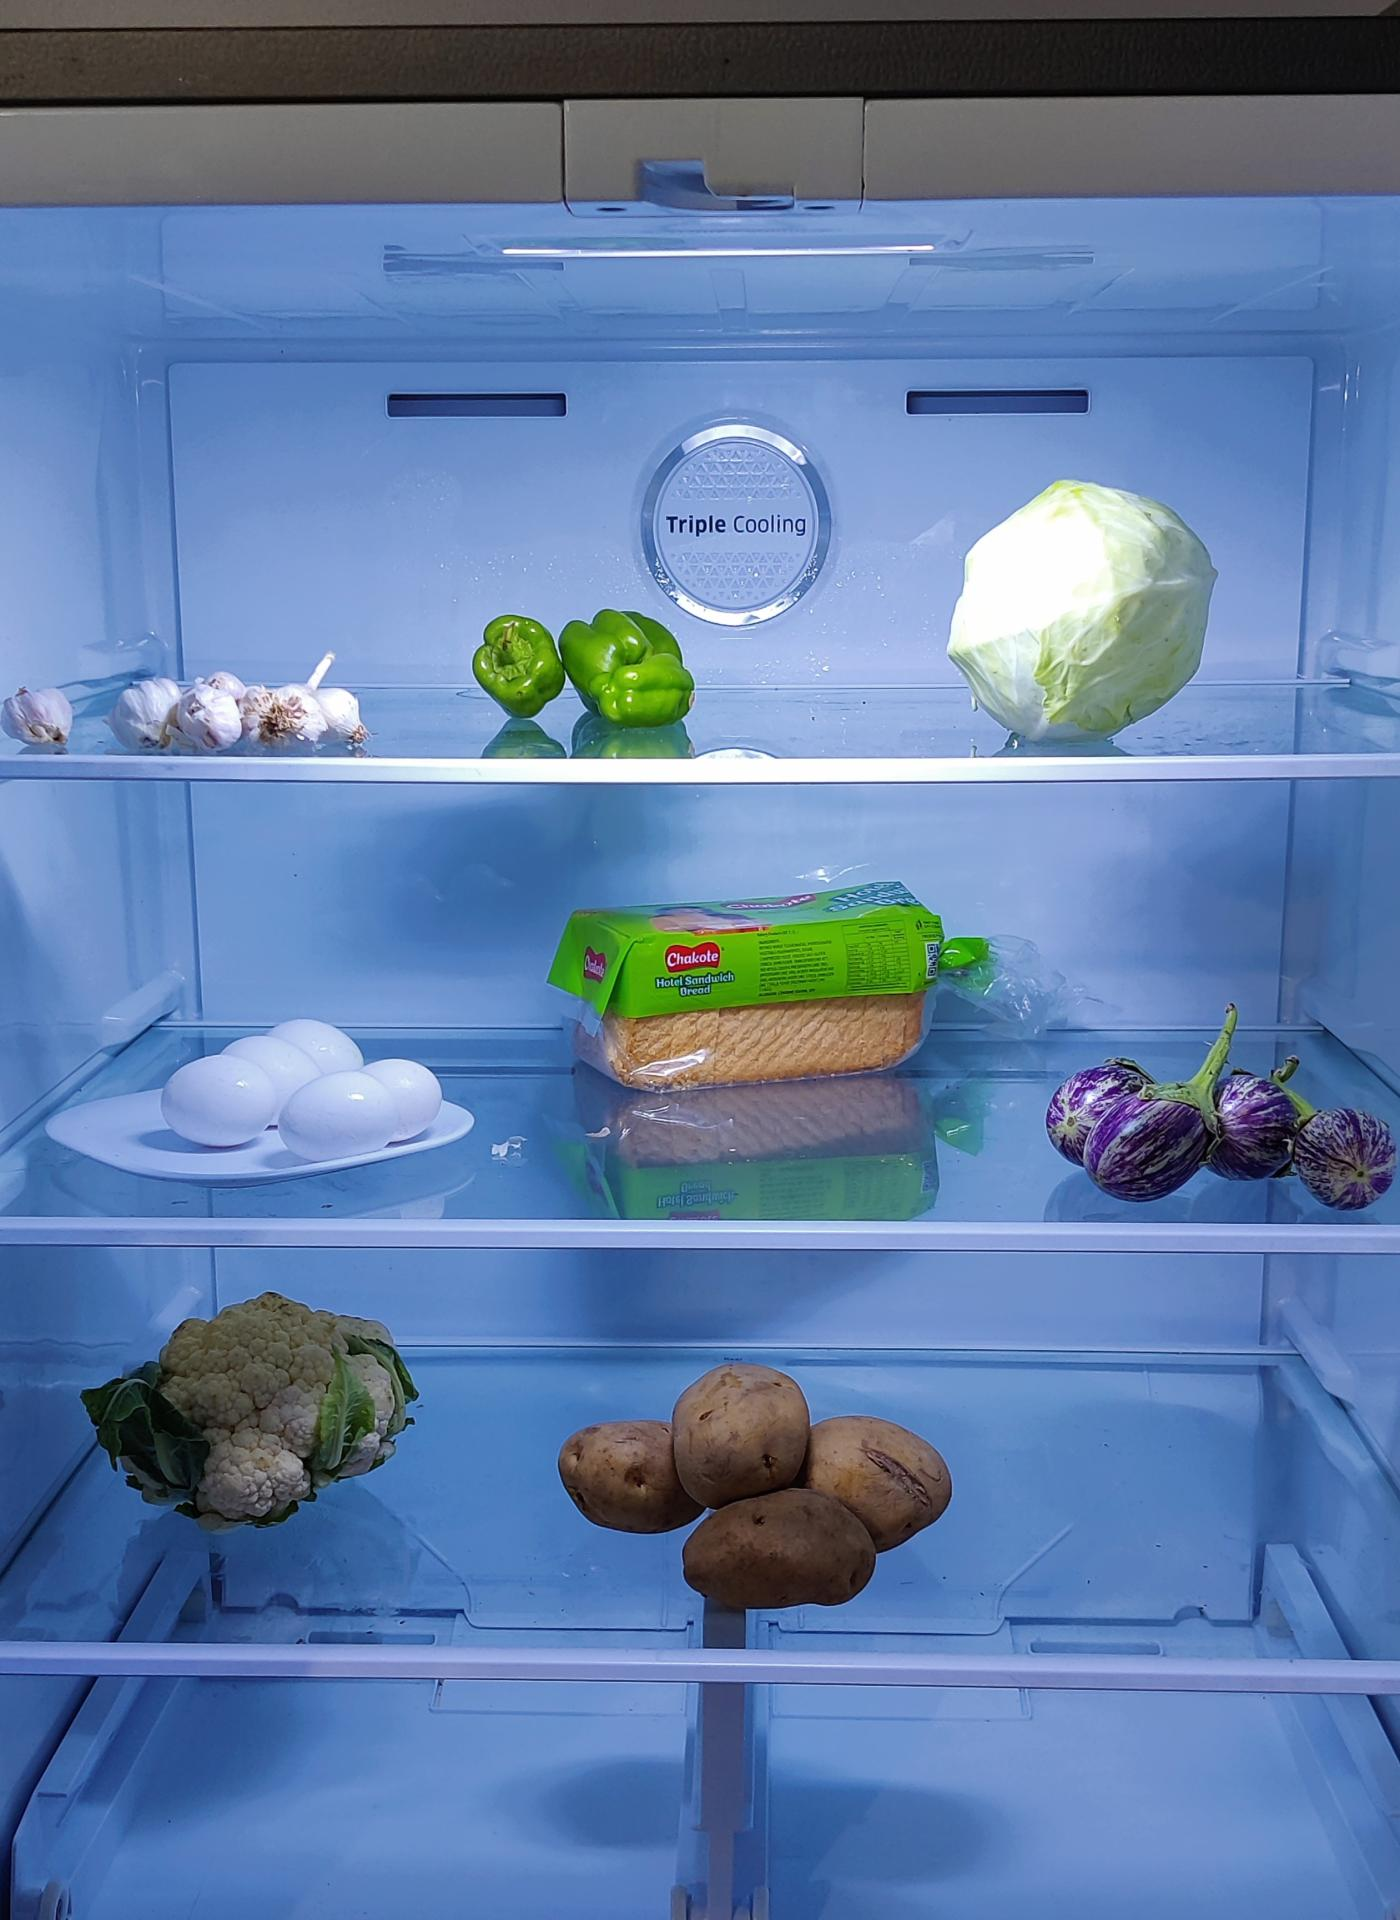bread: (555, 882, 969, 1097)
brinjal: (1056, 1046, 1397, 1216)
cabbage: (947, 468, 1220, 738)
capsicum: (470, 602, 698, 735)
carrots: (562, 1355, 956, 1614)
cauliflower: (92, 1292, 422, 1529)
egg: (157, 1006, 447, 1149)
garlic: (122, 663, 370, 760)
